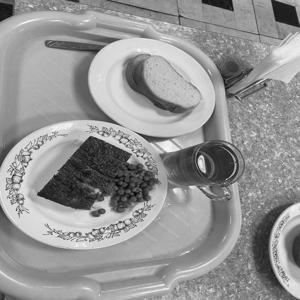bread: (114, 49, 211, 129)
casserole: (41, 133, 150, 232)
tea: (158, 138, 249, 201)
